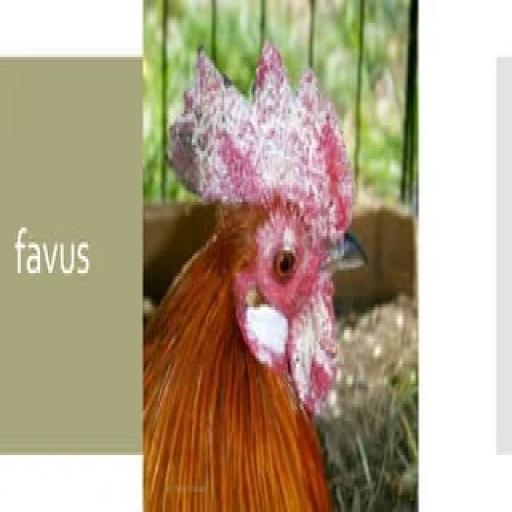disease: (163, 49, 355, 222), (280, 280, 347, 426), (299, 196, 349, 265), (248, 208, 304, 248)
